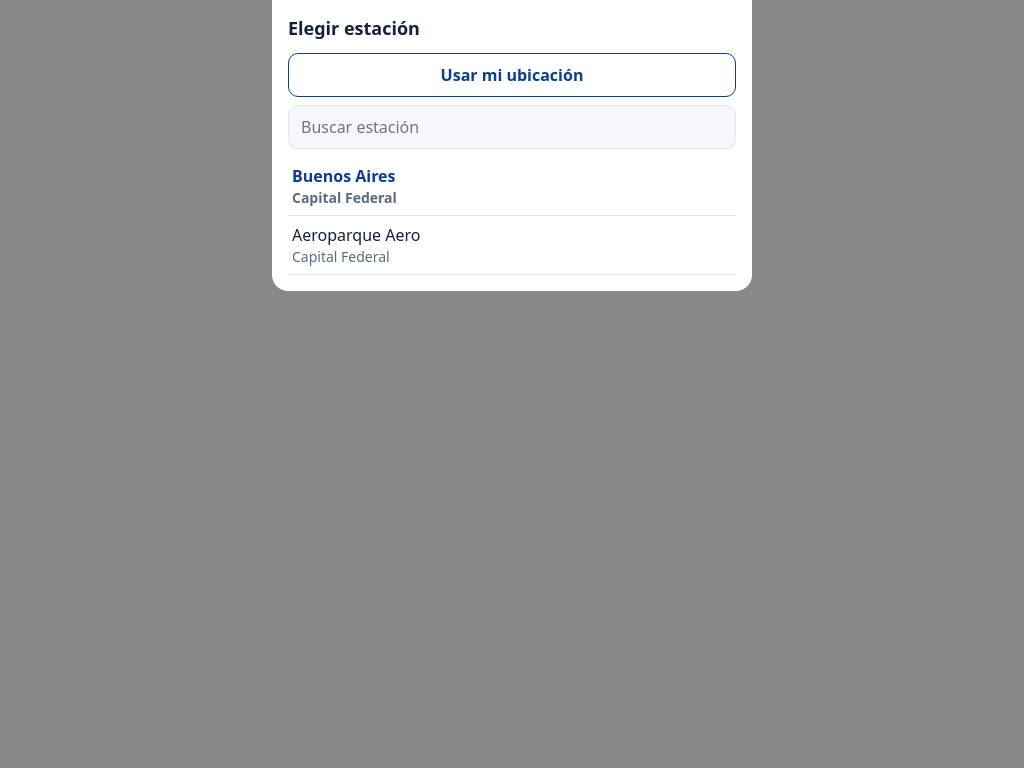
Test: StationPicker: usar mi ubicación › mientras busca muestra "Buscando…" y deshabilita el botón
Click the button "Usar mi ubicación" at (512, 75), box x1=288 y1=53 x2=736 y2=97
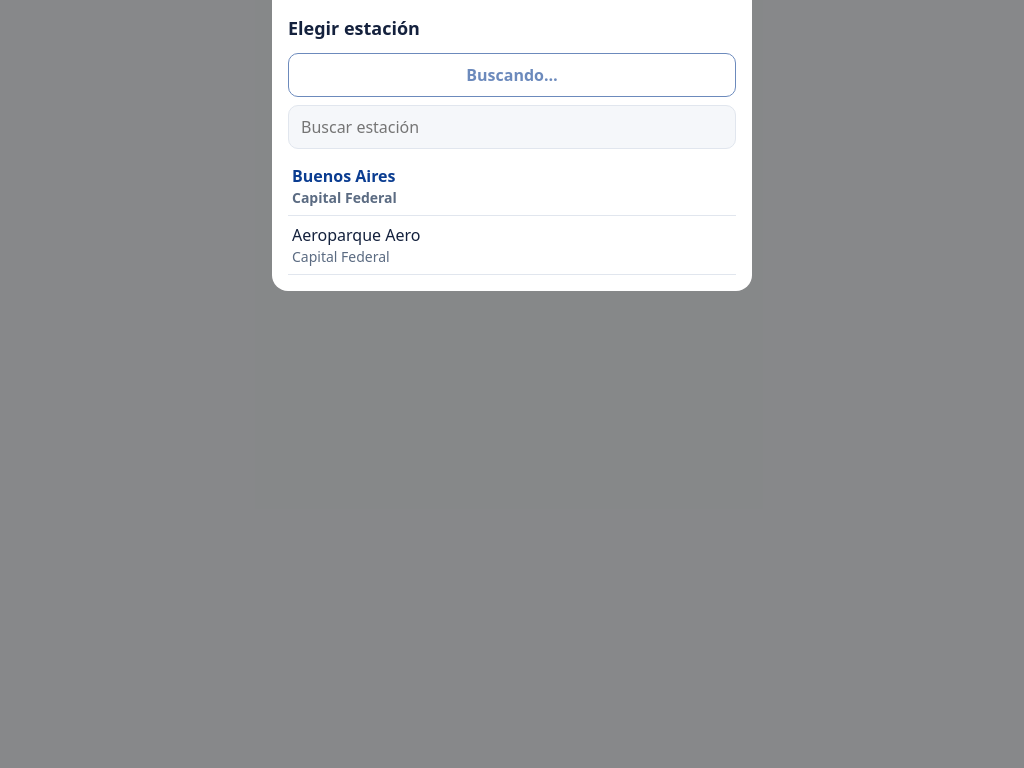
Now the button "Buscando…" is disabled, box x1=288 y1=53 x2=736 y2=97
